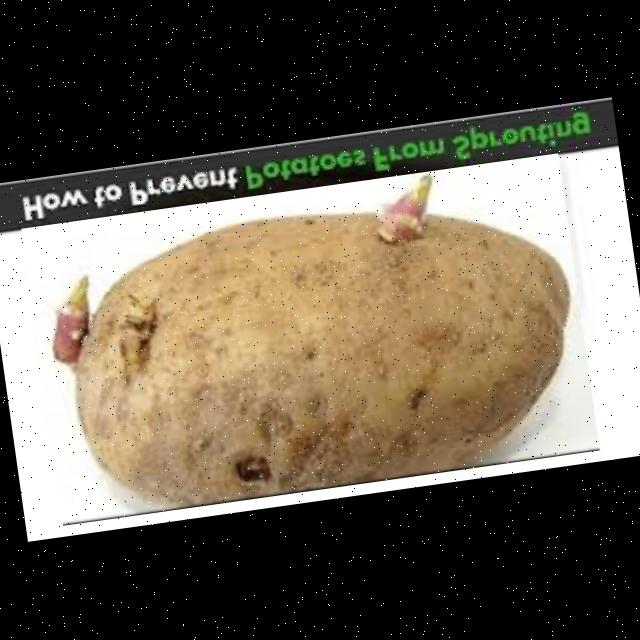Sprouted potato: (22, 153, 600, 526)
